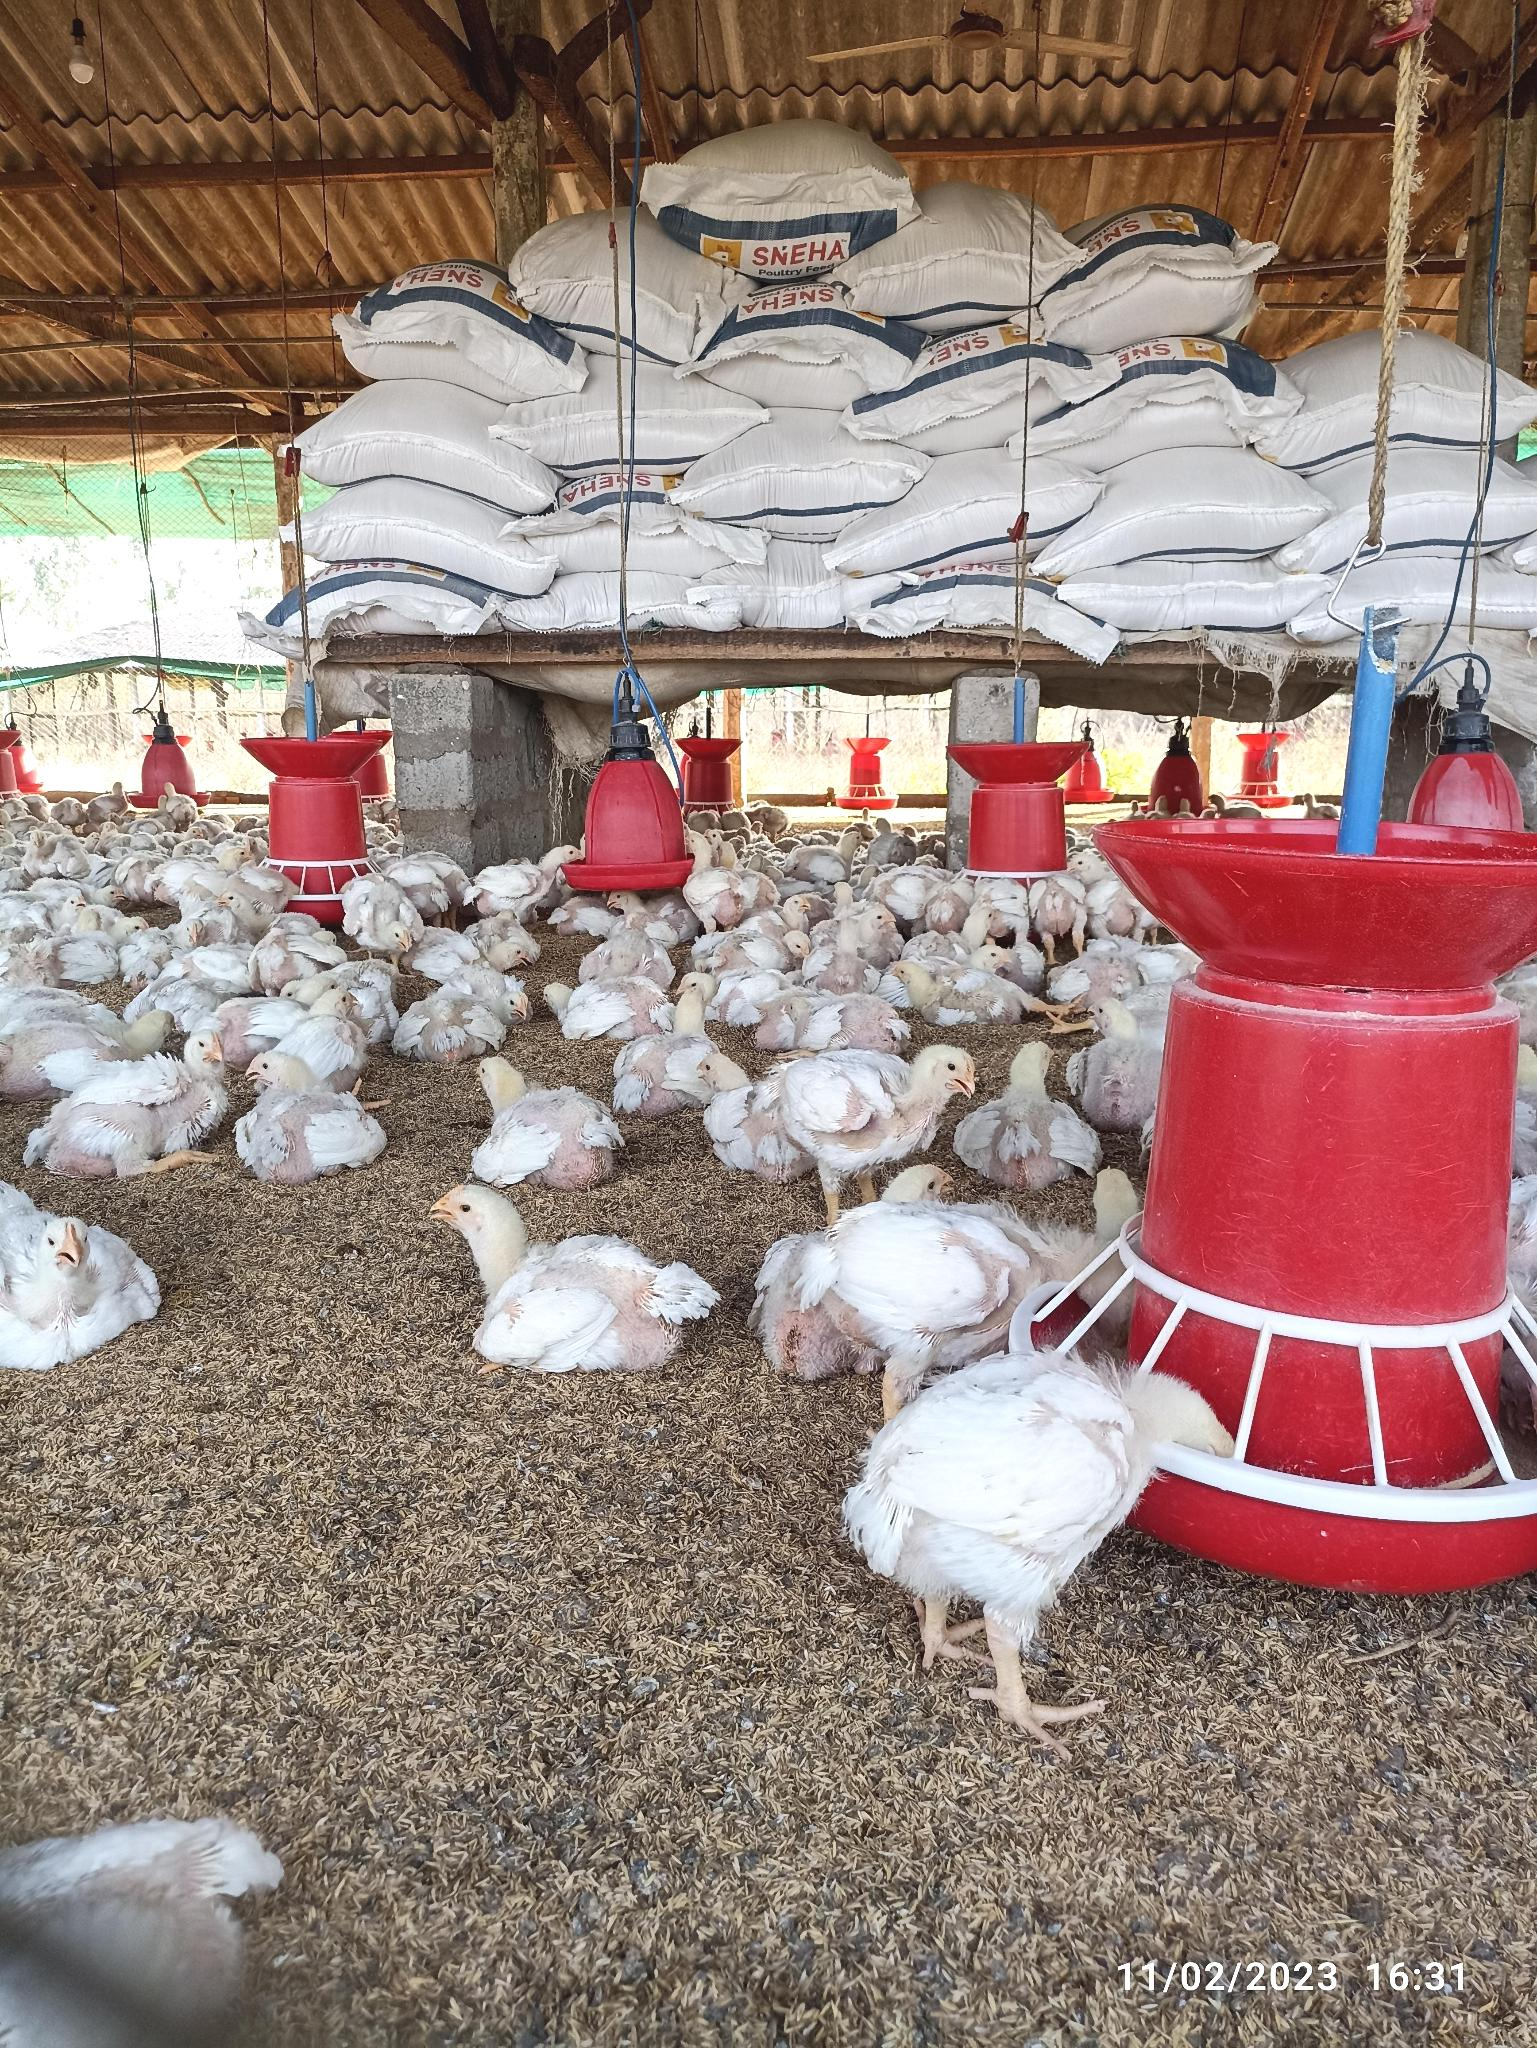Pollos: (840, 1367, 1137, 1638), (426, 1193, 710, 1377), (780, 1196, 1090, 1364), (752, 1025, 982, 1188), (447, 1055, 617, 1199), (47, 1031, 220, 1162), (6, 1209, 149, 1359), (234, 1046, 387, 1162), (970, 1031, 1087, 1181), (531, 968, 678, 1031)
